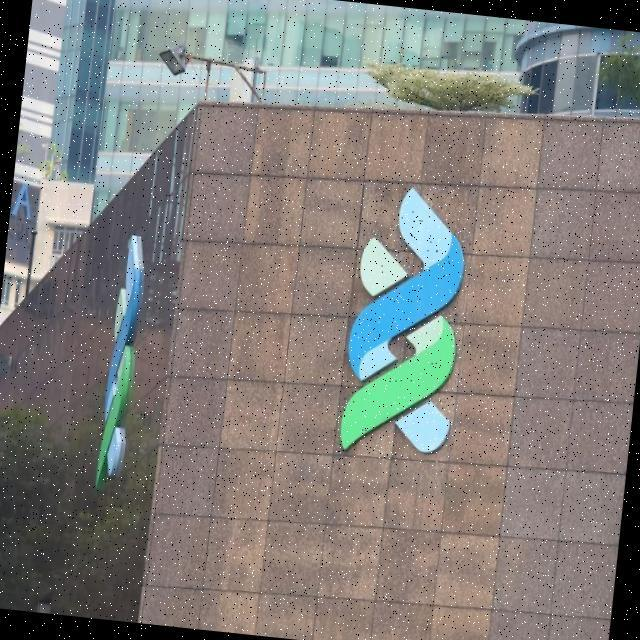Standard Chartered: (334, 180, 477, 469)
